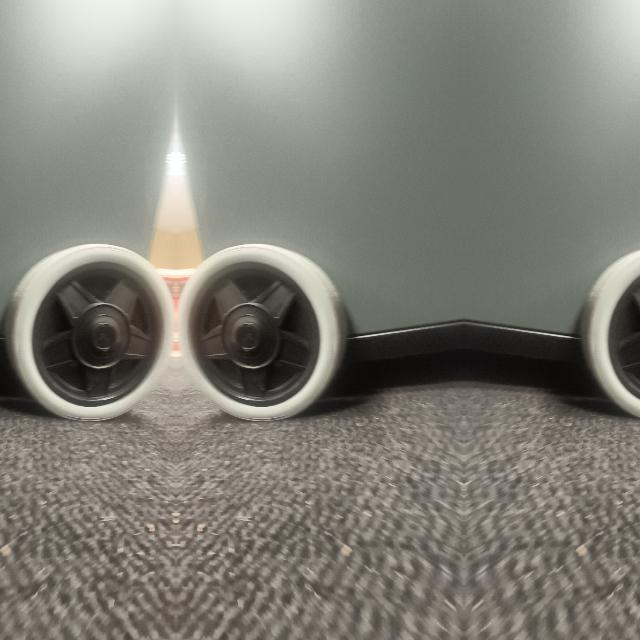obstacle: (181, 76, 459, 424), (468, 76, 640, 423), (0, 76, 169, 423)
